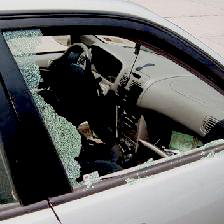glass_shatter: (9, 14, 211, 206)
